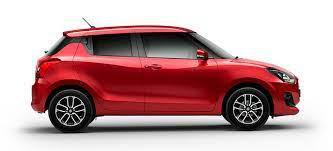Hatchback: (30, 22, 305, 133)
